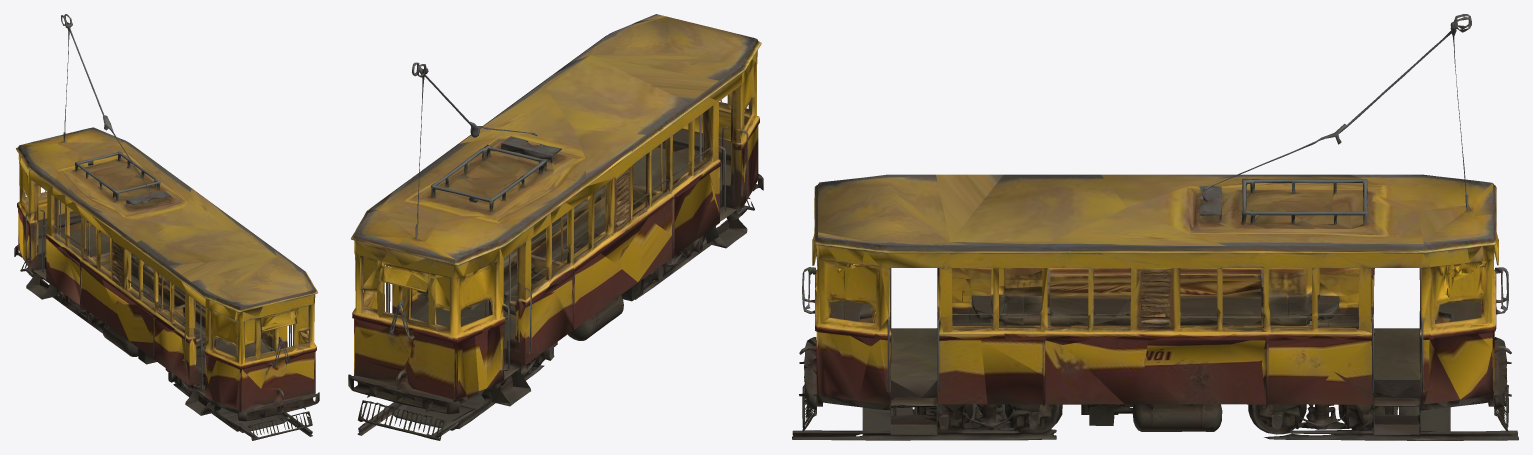
File: tau-dien.glb
3 views of the same model, side by side, from view 1: azimuth 30°, elevation 25°; view 2: azimuth 150°, elevation 25°; view 3: azimuth 270°, elevation 25° (orthographic). The views are drawn at different scales.
Parts seen in each view (by area): view 1: tripo_node_d17635ad; view 2: tripo_node_d17635ad; view 3: tripo_node_d17635ad.
Boxes of the visible parts, x1,y1,x2,y2 form: tripo_node_d17635ad: (14,14,319,440); tripo_node_d17635ad: (348,14,763,440); tripo_node_d17635ad: (792,14,1518,440).
Bounding box in the file's own units: 2.46 × 5.93 × 9.5.
1 material, 1 textured.
